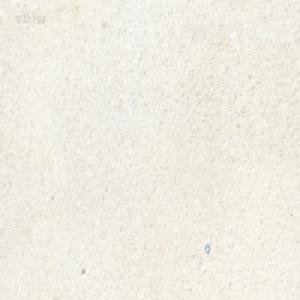Washer: (204, 243, 210, 253)
